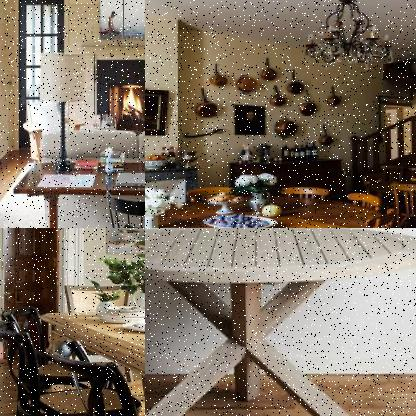table: (145, 228, 415, 415), (35, 294, 144, 415), (11, 154, 144, 227)
